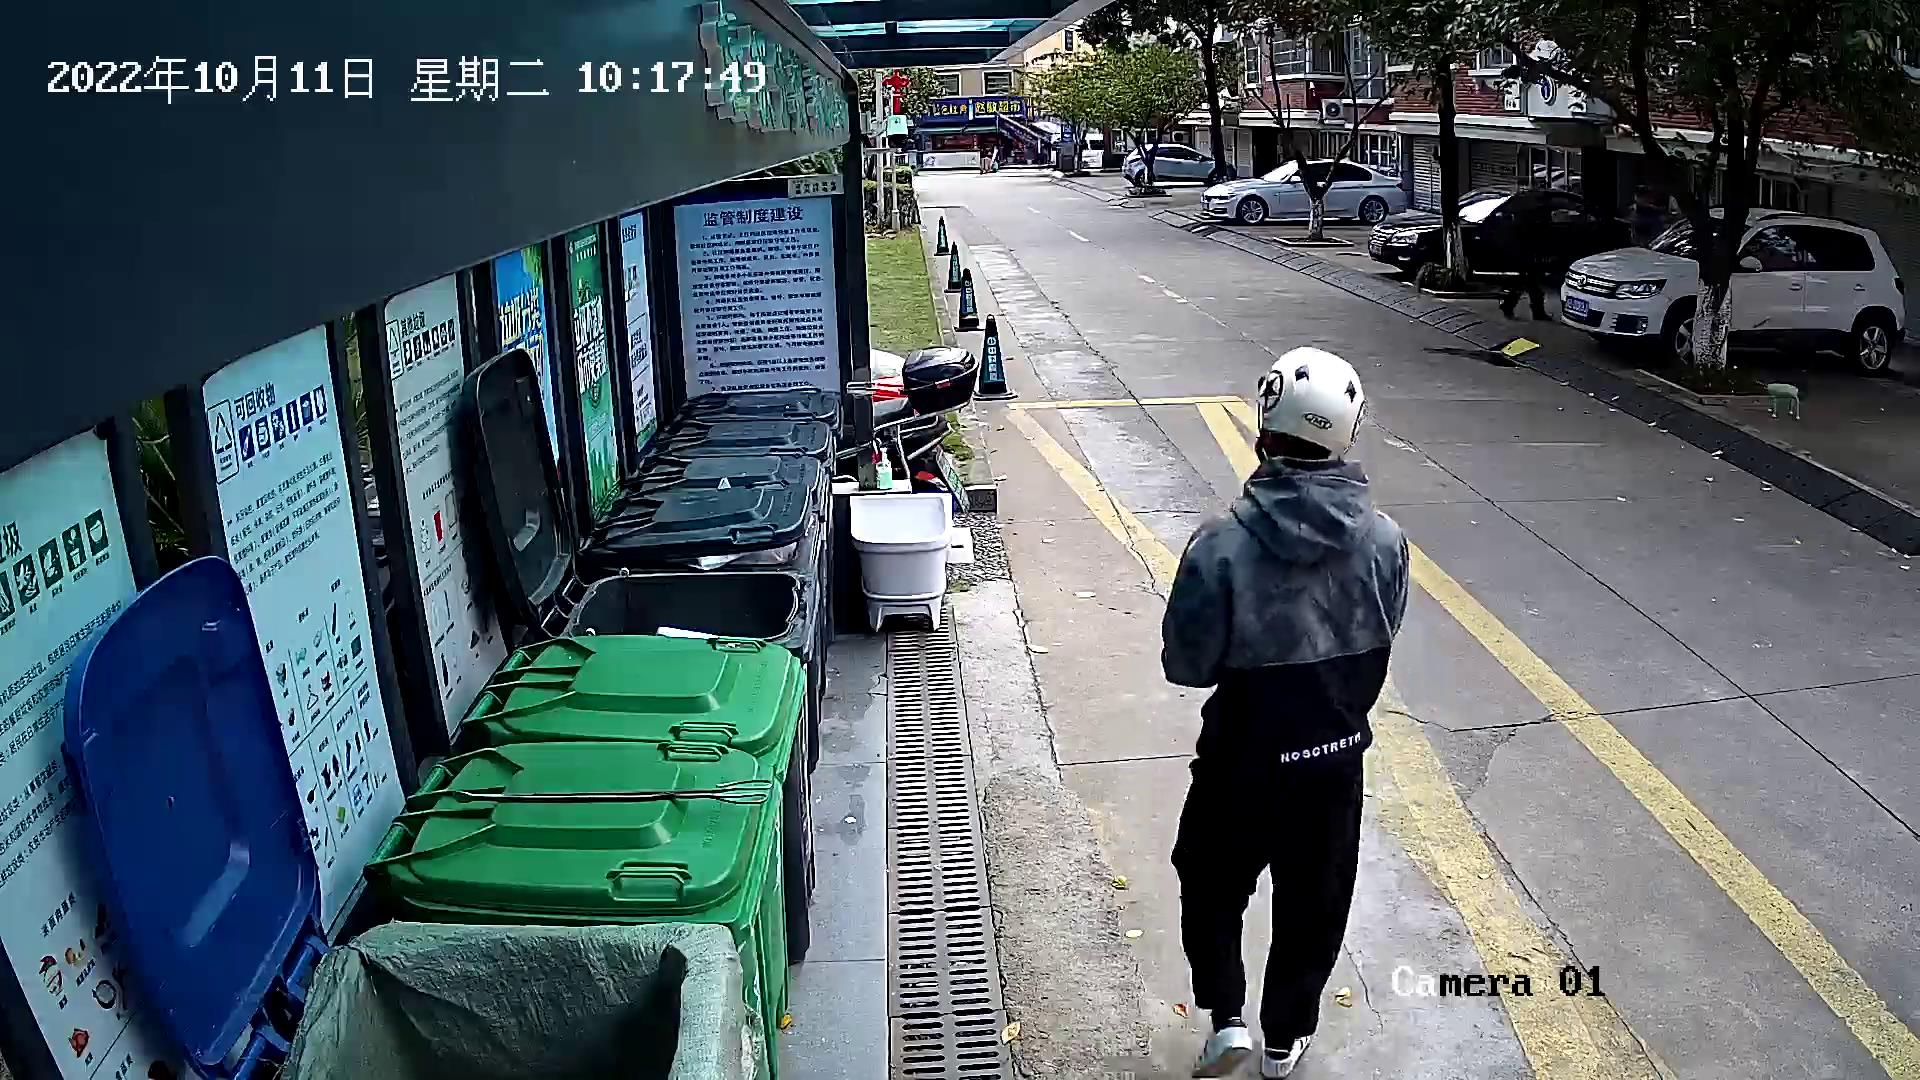person: (1148, 336, 1429, 1080)
